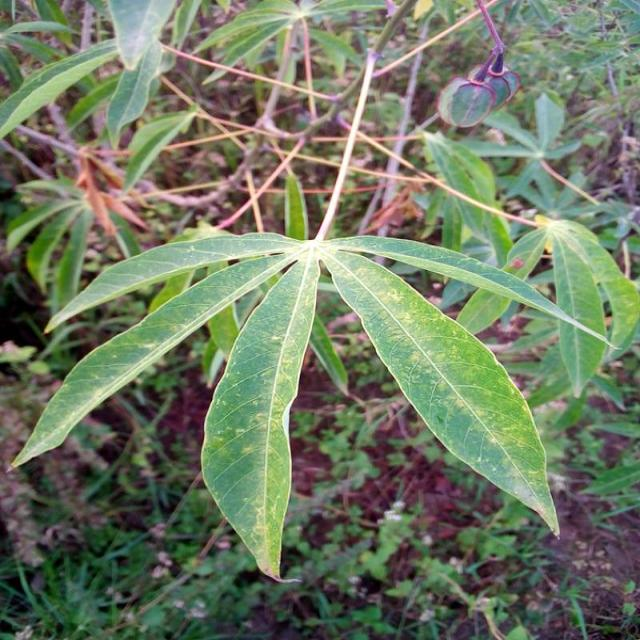cassava leaf: (322, 241, 562, 538), (200, 246, 322, 582)
